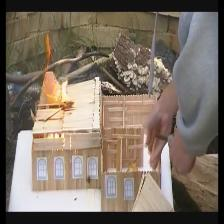fire: (50, 76, 74, 112)
